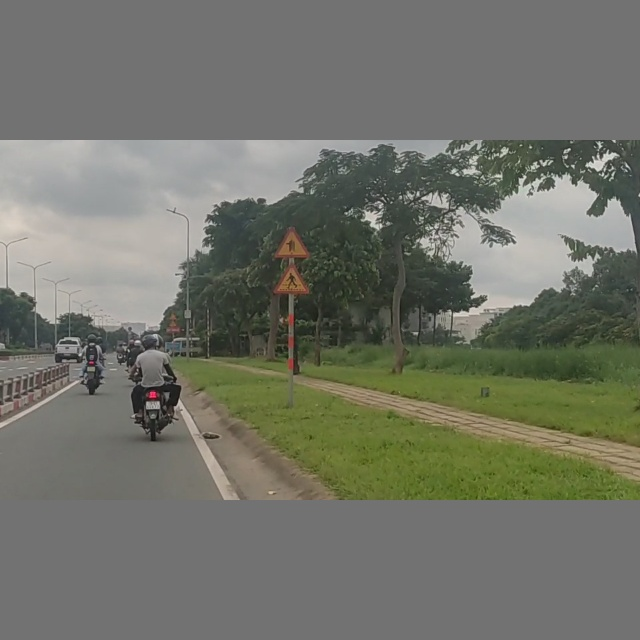W.207: (275, 227, 311, 258)
W.224: (273, 263, 309, 294)
